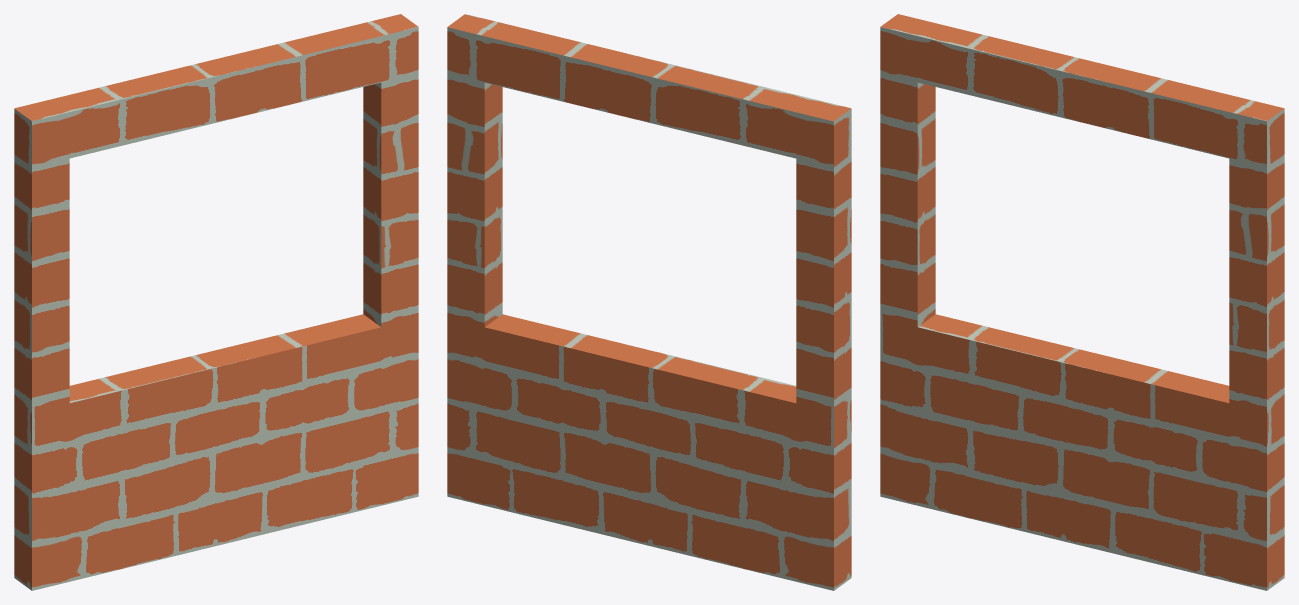
Rendered from Brick_Wall_Win_Square.fbx.
3 views of the same model, side by side, from view 1: azimuth 30°, elevation 25°; view 2: azimuth 150°, elevation 25°; view 3: azimuth 330°, elevation 25° (orthographic).
Parts seen in each view (by area): view 1: Brick_Wall_Win_Square; view 2: Brick_Wall_Win_Square; view 3: Brick_Wall_Win_Square.
Part boxes in pixels (bbox=[...]): Brick_Wall_Win_Square: bbox=[14, 14, 418, 590]; Brick_Wall_Win_Square: bbox=[447, 14, 851, 590]; Brick_Wall_Win_Square: bbox=[880, 14, 1284, 590].
Bounding box in the file's own units: 250 × 290 × 20.
